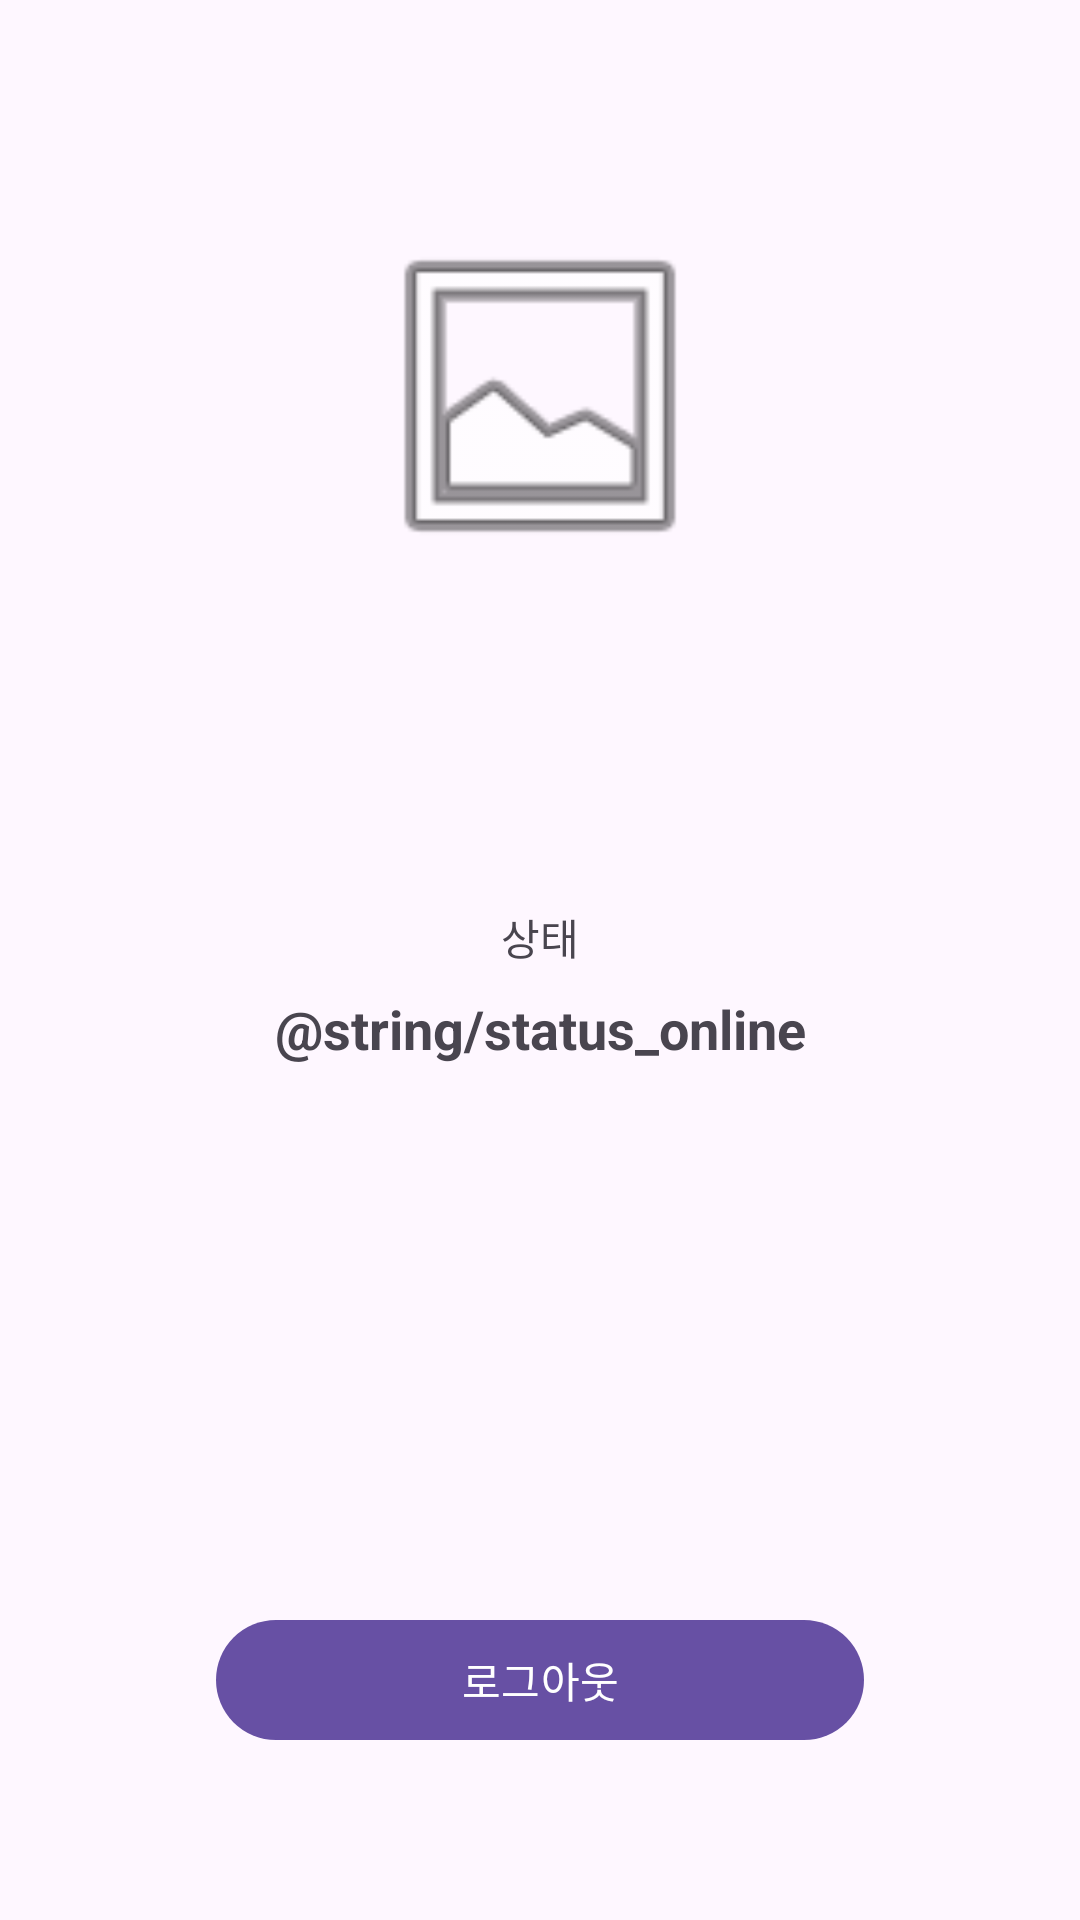

Locate icon controls on the screen. Image size 1080×1920, boxes as [x1,y1,x2,y2].
gallery: [404,260,676,532]
